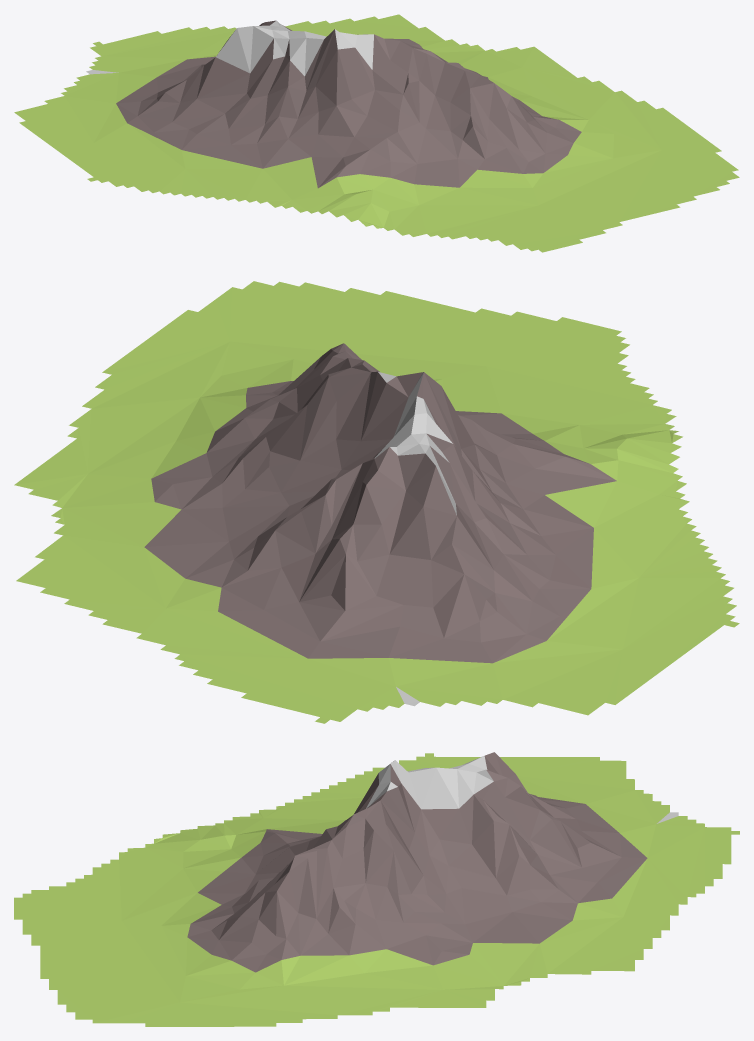
File: ExportedBlenderFBXFile.fbx
The picture shows the model from 3 angles, top to bottom: view 1: azimuth 30°, elevation 25°; view 2: azimuth 150°, elevation 25°; view 3: azimuth 270°, elevation 25°; orthographic projection. The views are drawn at different scales.
Visible parts, largest first — view 1: Plane; view 2: Plane; view 3: Plane.
Part boxes in pixels (x1,y1,x2,y2): Plane: (14,14,739,252); Plane: (14,281,739,723); Plane: (14,752,739,1026).
Size of the model in its own units: 29.64 by 5.98 by 33.24.
